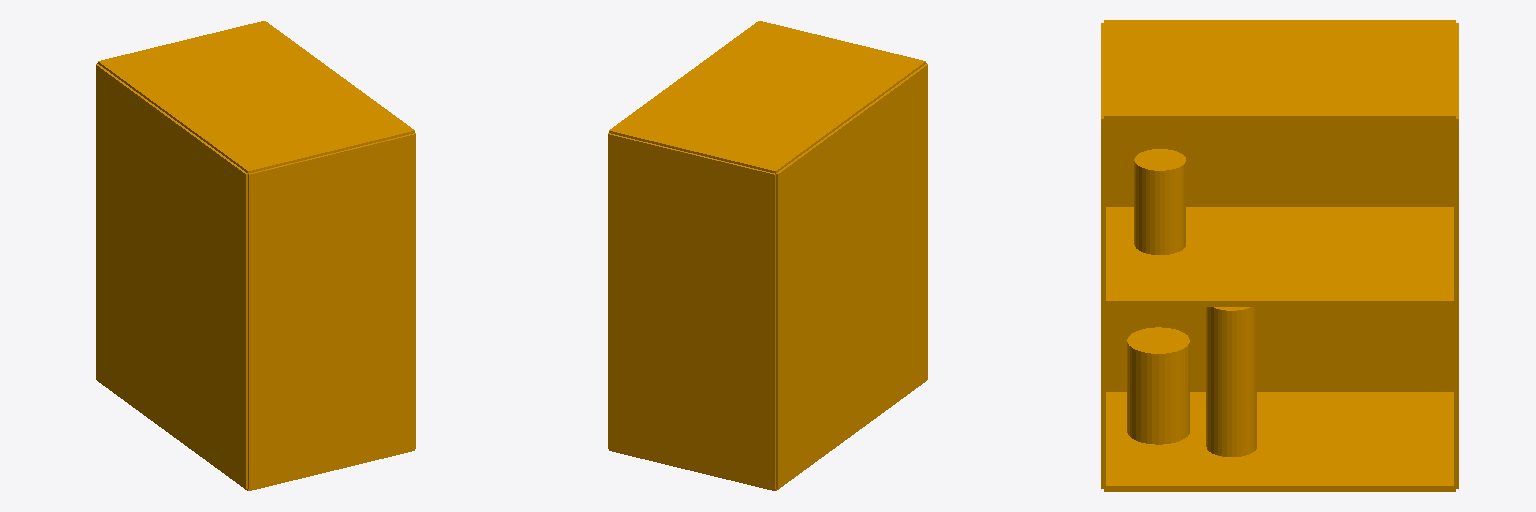
The robot description file, URDF, robot "syn_can_cabinet_2859":
<?xml version="1.0" ?>
<robot name="syn_can_cabinet_2859">
    <link concave="yes" name="base_link">
        <inertial>
            <origin rpy="0 0 0" xyz="0 0 0"/>
            <mass value="0.0"/>
            <inertia ixx="1e-08" ixy="0" ixz="0" iyy="1e-08" iyz="0" izz="1e-08"/>
        </inertial>
        <visual>
            <origin xyz="0 0 0" rpy="0 0 0" />
            <geometry>
                <mesh filename="syn_can_cabinet_2859.obj" scale="1.000000 1.000000 1.000000"/>
            </geometry>         
        </visual>

        <collision concave="yes">
            <origin xyz="0 0 0" rpy="0 0 0"/>
            <geometry>
                <mesh filename="syn_can_cabinet_2859.obj" scale="1.000000 1.000000 1.000000"/>
            </geometry>
        </collision>
    </link>
</robot>
    

--- What the picture shows (computed from the rendered views, not written in the file) ---
3 views of the same robot in one strip: view 1: azimuth 30°, elevation 25°; view 2: azimuth 150°, elevation 25°; view 3: azimuth 270°, elevation 25° (orthographic).
Model syn_can_cabinet_2859 with 1 links and 0 joints (none), rooted at base_link, posed every joint at zero.
Links seen in each view (by area): view 1: base_link; view 2: base_link; view 3: base_link.
Link boxes in pixels (left/top/right/bottom): base_link: left=96, top=21, right=415, bottom=490; base_link: left=608, top=21, right=927, bottom=490; base_link: left=1101, top=20, right=1458, bottom=491.
Size in the robot's own frame: 0.2109 by 0.3295 by 0.3809 metres.
1 mesh visuals loaded from 1 distinct referenced files (1 OBJ).
